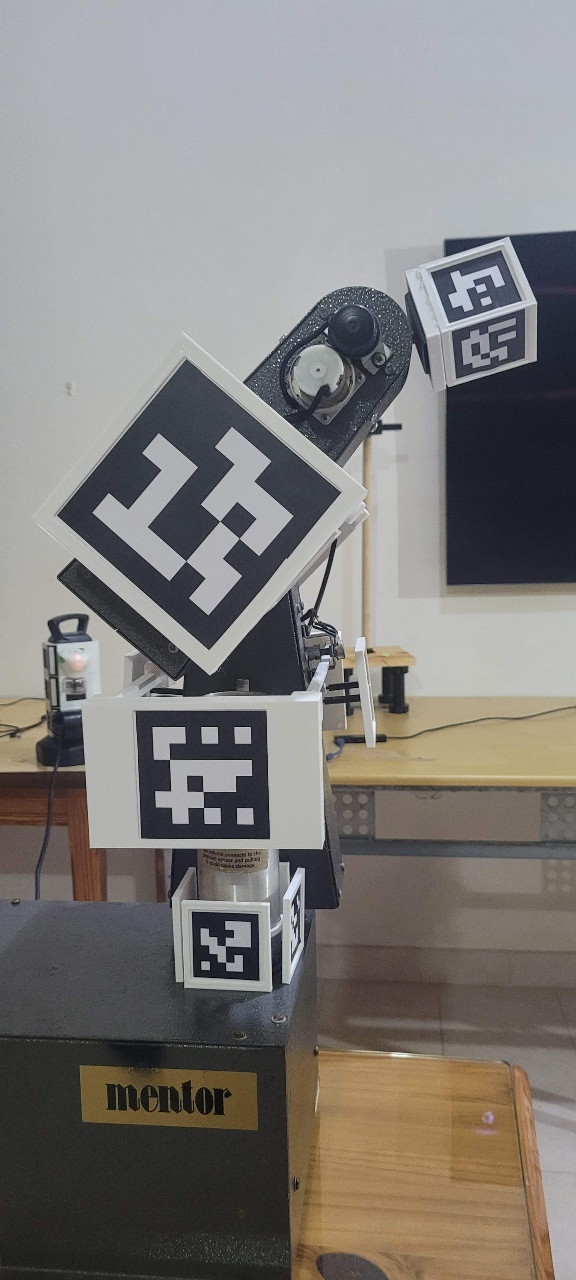Robot: (128, 278, 482, 957)
